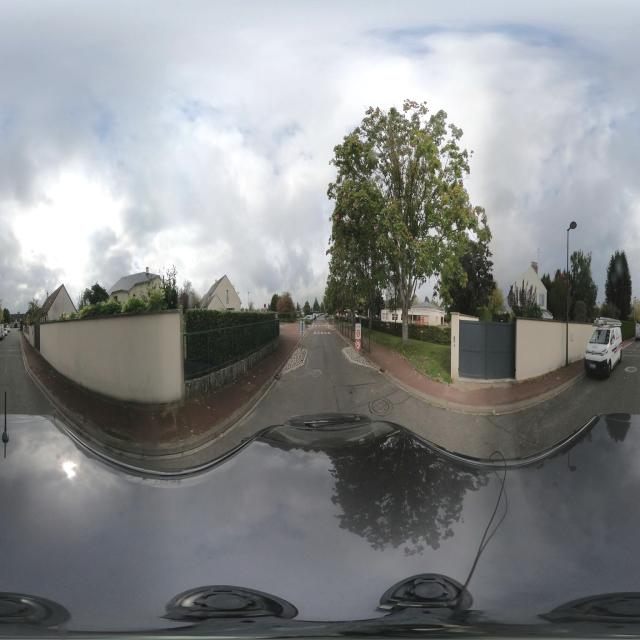car: (584, 327, 620, 378), (609, 324, 623, 362), (0, 324, 5, 339)
